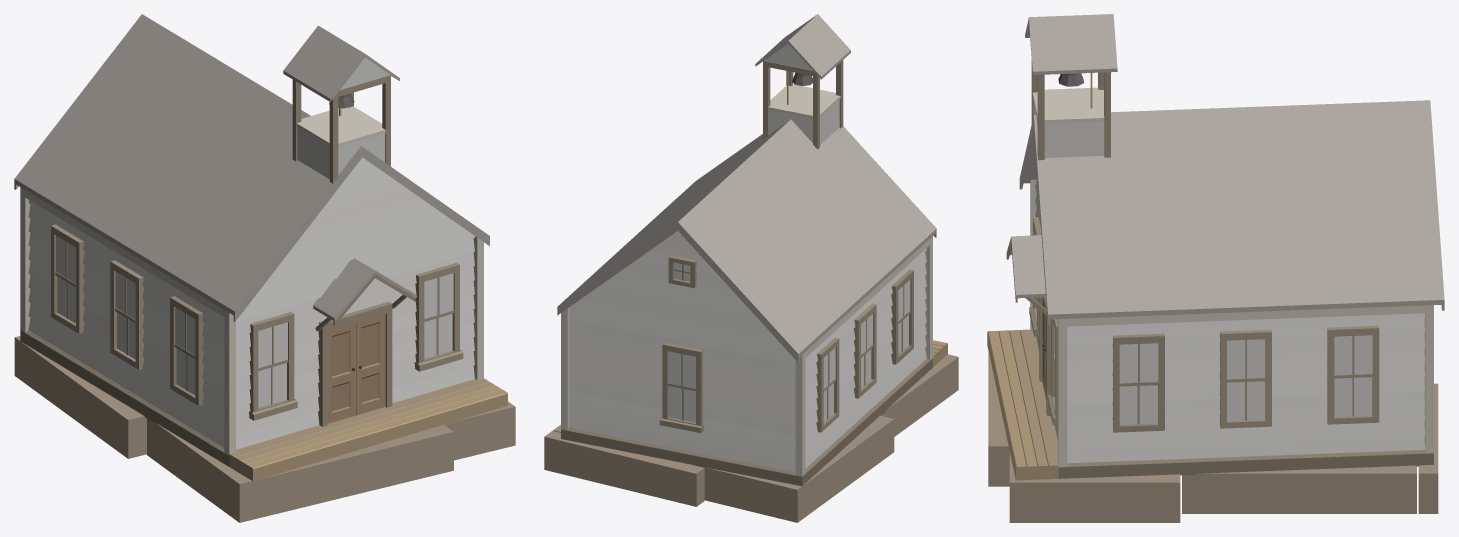
The model's file is house_10.glb.
3 views of the same model, side by side, from view 1: azimuth 30°, elevation 25°; view 2: azimuth 150°, elevation 25°; view 3: azimuth 270°, elevation 25° (orthographic). The views are drawn at different scales.
Parts seen in each view (by area): view 1: house_10; view 2: house_10; view 3: house_10.
Boxes of the visible parts, x1,y1,x2,y2 form: house_10: (14,14,515,522); house_10: (544,14,958,522); house_10: (987,14,1444,522).
Size of the model in its own units: 8.48 by 11.14 by 10.62.
